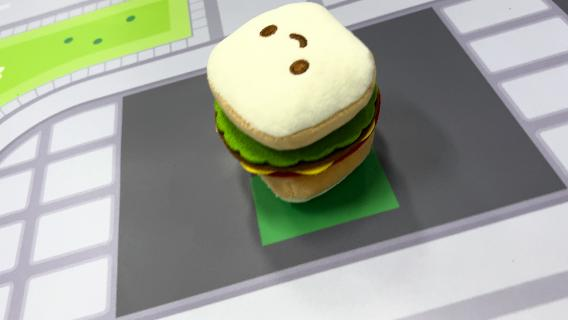sandwich: (204, 2, 384, 204)
